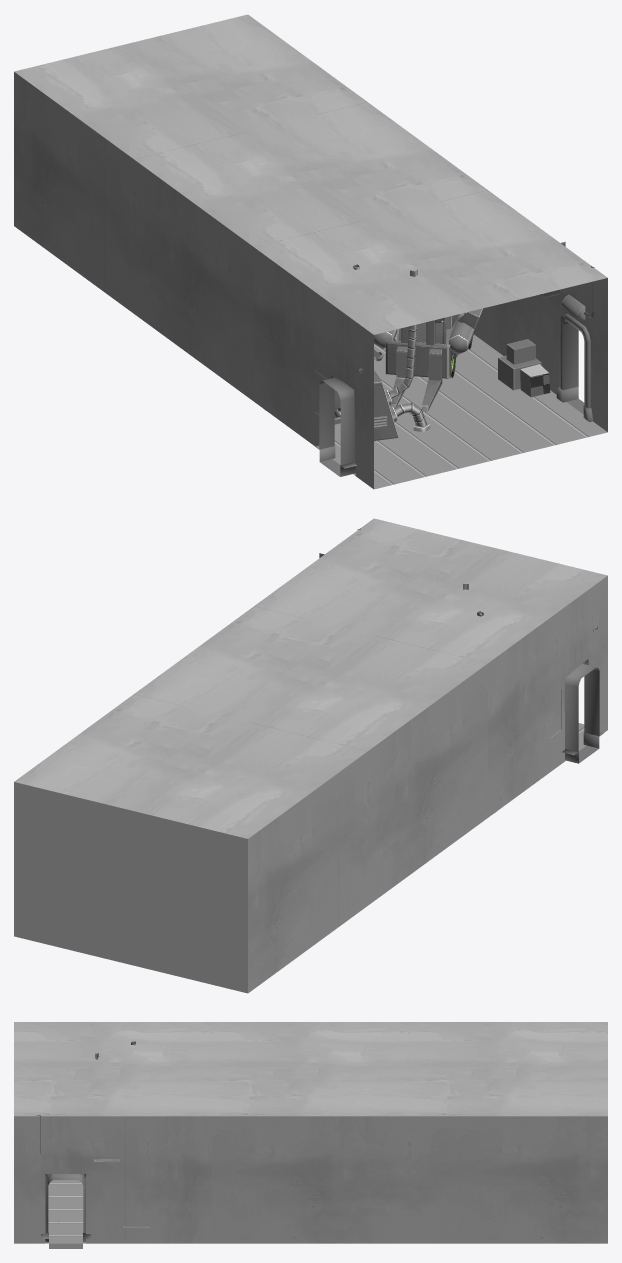
The model's file is MHS_Storage_L3_R1_optimized.fbx.
3 views of the same model, one above another, from view 1: azimuth 30°, elevation 25°; view 2: azimuth 150°, elevation 25°; view 3: azimuth 270°, elevation 25° (orthographic). The views are drawn at different scales.
Visible parts, largest first — view 1: lightmap1, lightmap-1; view 2: lightmap1, lightmap-1; view 3: lightmap1, lightmap-1.
Boxes of the visible parts, bbox=[...] form: lightmap1: bbox=[14, 14, 607, 489]; lightmap-1: bbox=[319, 321, 584, 476]; lightmap1: bbox=[14, 518, 607, 993]; lightmap-1: bbox=[564, 663, 599, 763]; lightmap1: bbox=[14, 1022, 607, 1243]; lightmap-1: bbox=[48, 1174, 83, 1248].
Bounding box in the file's own units: 10.3 × 6.3 × 24.77.
